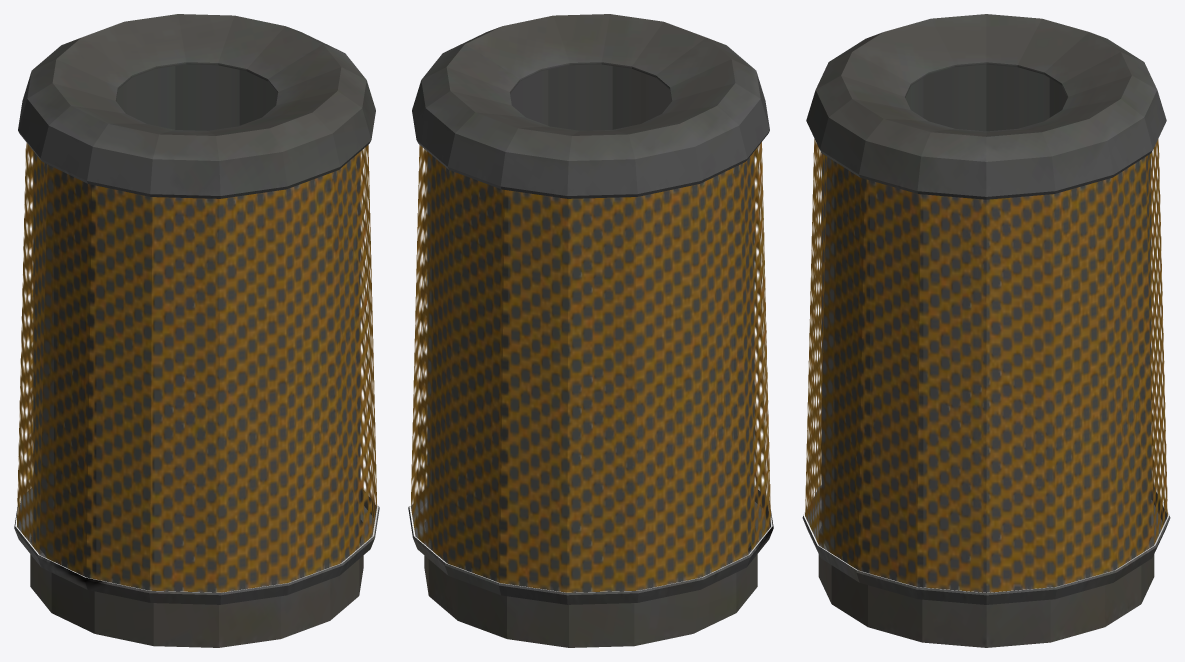
The model's file is strProp_16.glb.
The picture shows the model from 3 angles, left to right: view 1: azimuth 30°, elevation 25°; view 2: azimuth 150°, elevation 25°; view 3: azimuth 270°, elevation 25°; orthographic projection.
Visible parts, largest first — view 1: geometry_0; view 2: geometry_0; view 3: geometry_0.
Part boxes in pixels (left/top/right/bottom): geometry_0: left=14, top=14, right=379, bottom=647; geometry_0: left=408, top=14, right=773, bottom=647; geometry_0: left=802, top=14, right=1170, bottom=647.
Size of the model in its own units: 0.6087 by 0.9156 by 0.6087.
1 material, 1 textured.
